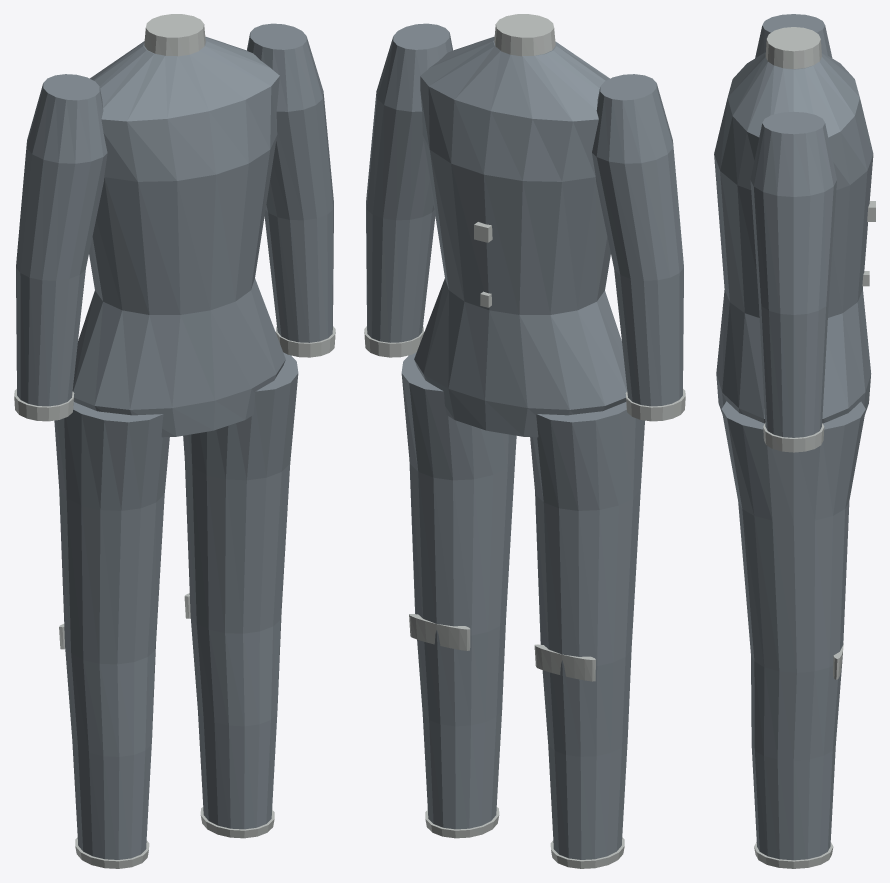
The picture shows the model from 3 angles, left to right: view 1: azimuth 30°, elevation 25°; view 2: azimuth 150°, elevation 25°; view 3: azimuth 270°, elevation 25°; orthographic projection. The views are drawn at different scales.
Parts seen in each view (by area): view 1: CHAR-060; view 2: CHAR-060; view 3: CHAR-060.
Part boxes in pixels (<box>): CHAR-060: <box>14,14,335,868</box>; CHAR-060: <box>364,14,685,868</box>; CHAR-060: <box>714,14,875,868</box>.
Size of the model in its own units: 0.5543 by 1.37 by 0.2561.
2 materials, 2 textured.
